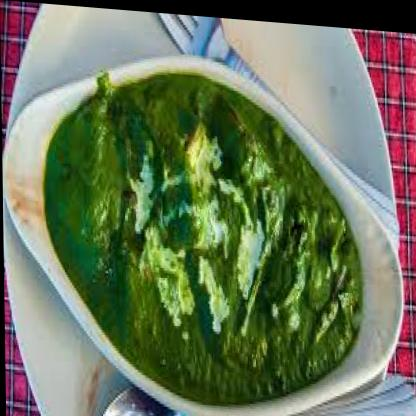palak_paneer: (42, 61, 363, 411)
